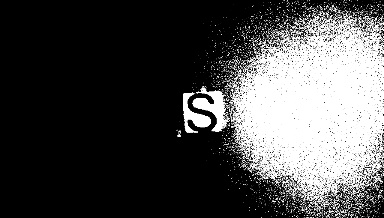S: (183, 91, 223, 132)
